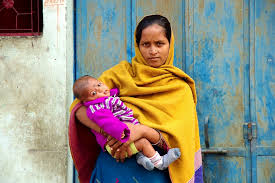without_mask: (140, 34, 166, 67), (84, 79, 110, 99)
